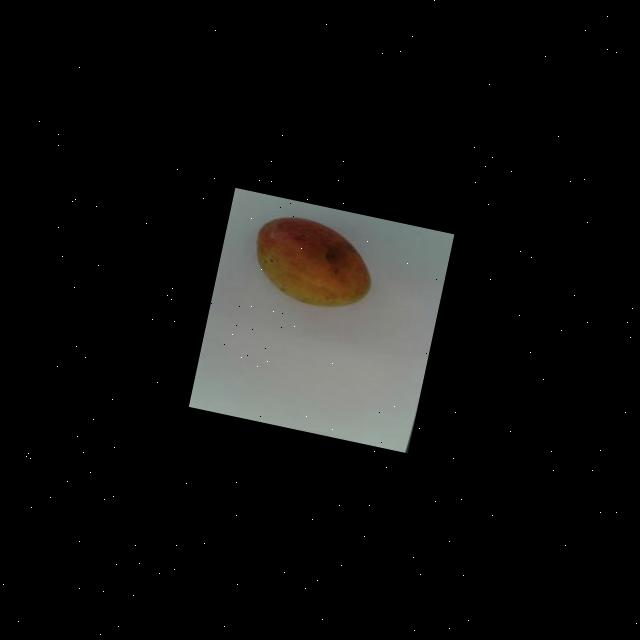Mango: (245, 208, 382, 316)
